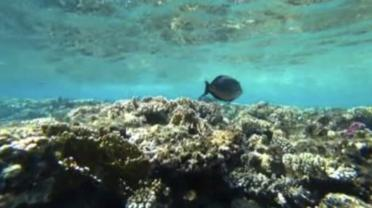Acanthuridae -Surgeonfishes-: (198, 73, 244, 100)
